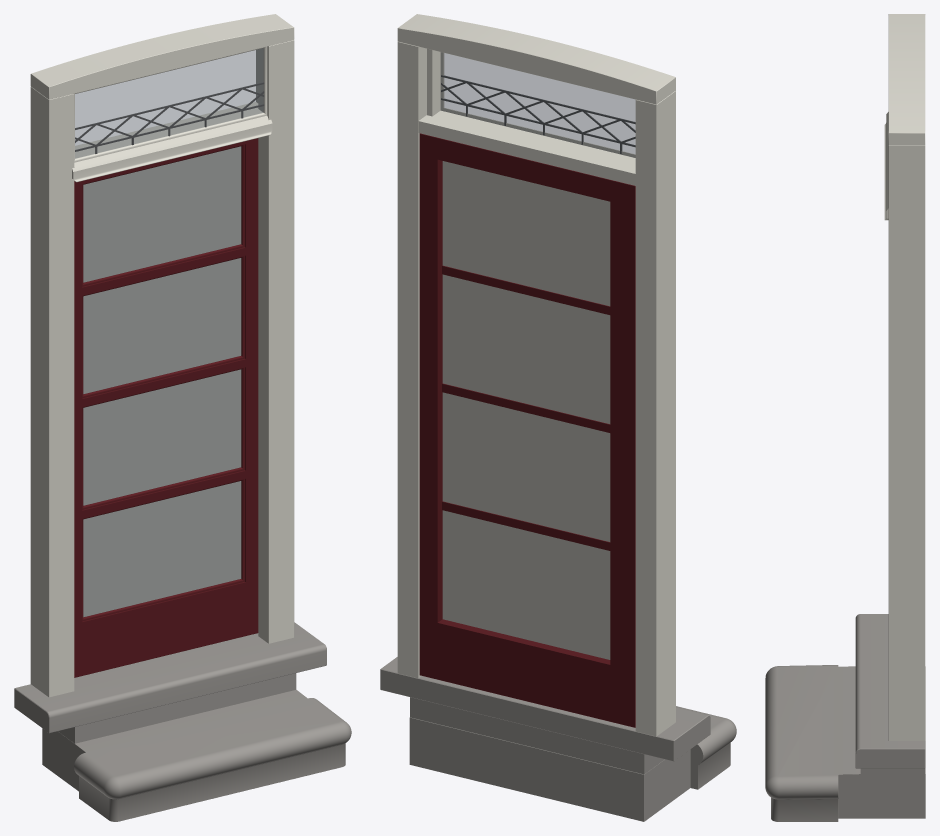
The model's file is door_T2.glb.
3 views of the same model, side by side, from view 1: azimuth 30°, elevation 25°; view 2: azimuth 150°, elevation 25°; view 3: azimuth 270°, elevation 25° (orthographic). The views are drawn at different scales.
Parts seen in each view (by area): view 1: frame_jamb_L, leaf_frame, stone_tread, frame_jamb_R, net_light4, net_light2, net_light3, net_light1, glass_light4, glass_light2, glass_light1, glass_light3 (+11 smaller); view 2: leaf_frame, frame_jamb_L, net_light2, net_light1, net_light3, net_light4, frame_jamb_R, stone_tread, glass_fanlight, frame_head, stone_threshold, frame_transom (+3 smaller); view 3: frame_jamb_R, stone_tread, stone_threshold, frame_head, frame_transom, stone_riser.
Boxes of the visible parts, x1=… form: frame_jamb_L: x1=30, y1=87, x2=74, y2=697; leaf_frame: x1=74, y1=138, x2=258, y2=677; stone_tread: x1=42, y1=689, x2=351, y2=821; frame_jamb_R: x1=256, y1=40, x2=294, y2=643; net_light4: x1=83, y1=146, x2=241, y2=282; net_light2: x1=83, y1=369, x2=241, y2=505; net_light3: x1=83, y1=258, x2=241, y2=393; net_light1: x1=83, y1=481, x2=241, y2=616; glass_light4: x1=83, y1=146, x2=240, y2=282; glass_light2: x1=83, y1=369, x2=240, y2=505; glass_light1: x1=83, y1=481, x2=240, y2=616; glass_light3: x1=83, y1=258, x2=240, y2=393; leaf_frame: x1=419, y1=133, x2=635, y2=727; frame_jamb_L: x1=635, y1=91, x2=675, y2=736; net_light2: x1=442, y1=392, x2=610, y2=541; net_light1: x1=442, y1=510, x2=610, y2=659; net_light3: x1=442, y1=274, x2=610, y2=423; net_light4: x1=442, y1=161, x2=610, y2=306; frame_jamb_R: x1=397, y1=41, x2=440, y2=678; stone_tread: x1=409, y1=706, x2=736, y2=821; glass_fanlight: x1=441, y1=52, x2=635, y2=157; frame_head: x1=397, y1=14, x2=675, y2=104; stone_threshold: x1=380, y1=657, x2=710, y2=761; frame_transom: x1=418, y1=110, x2=635, y2=185; frame_jamb_R: x1=888, y1=145, x2=925, y2=740; stone_tread: x1=765, y1=665, x2=925, y2=821; stone_threshold: x1=855, y1=614, x2=925, y2=768; frame_head: x1=888, y1=14, x2=925, y2=145; frame_transom: x1=884, y1=112, x2=888, y2=220; stone_riser: x1=860, y1=768, x2=924, y2=773.
Size of the model in its own units: 1.11 by 2.66 by 0.5543.
